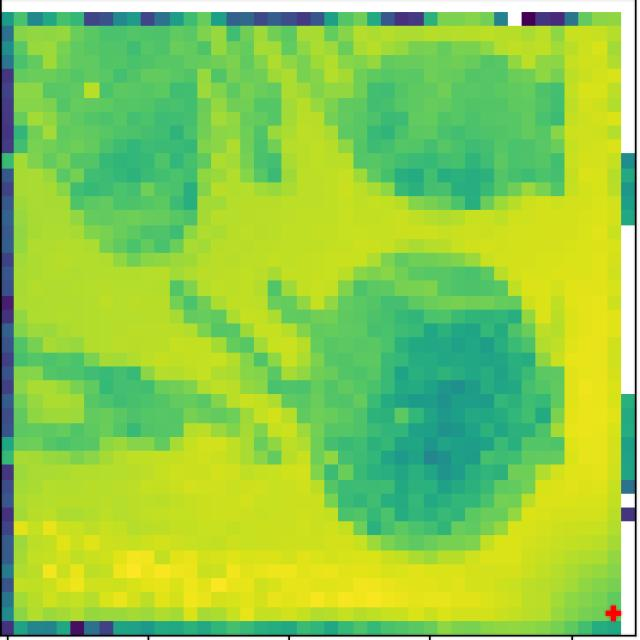Concrete: (369, 58, 545, 185)
Glass: (82, 47, 190, 229)
Metal: (334, 304, 518, 493)
Wood: (92, 366, 184, 445)
